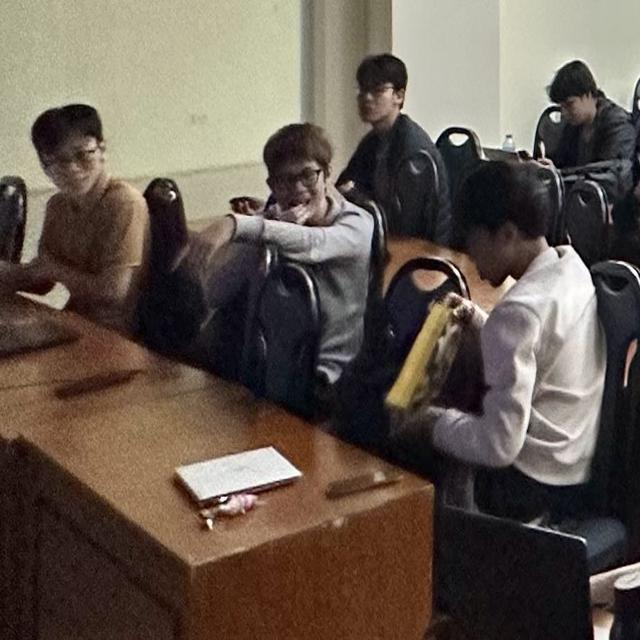Looking away: (462, 153, 554, 287), (26, 101, 133, 202), (262, 125, 339, 219), (548, 53, 603, 128)
Looking forward: (352, 53, 420, 124)
